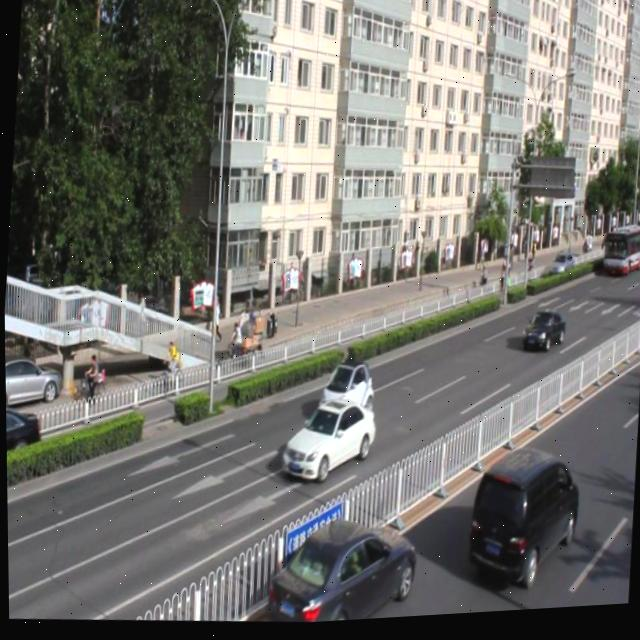car: (460, 444, 579, 596), (261, 511, 415, 628), (276, 396, 376, 490), (313, 358, 375, 425), (5, 400, 41, 481), (517, 309, 564, 361)
